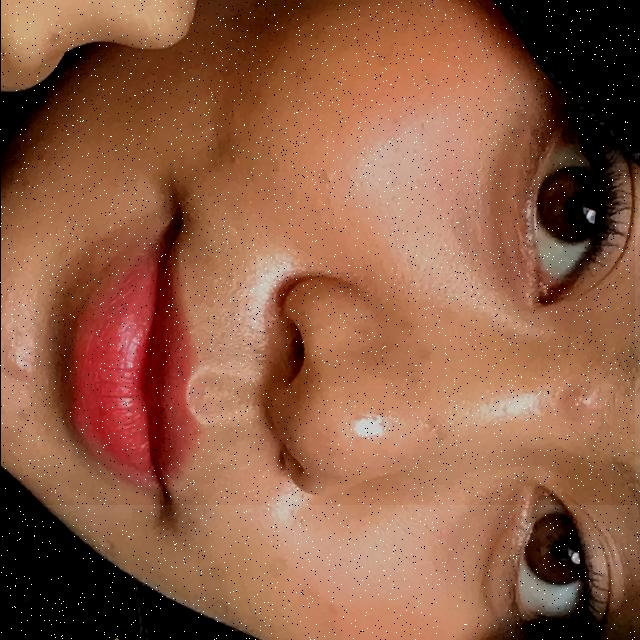telpon: (0, 0, 634, 505)
